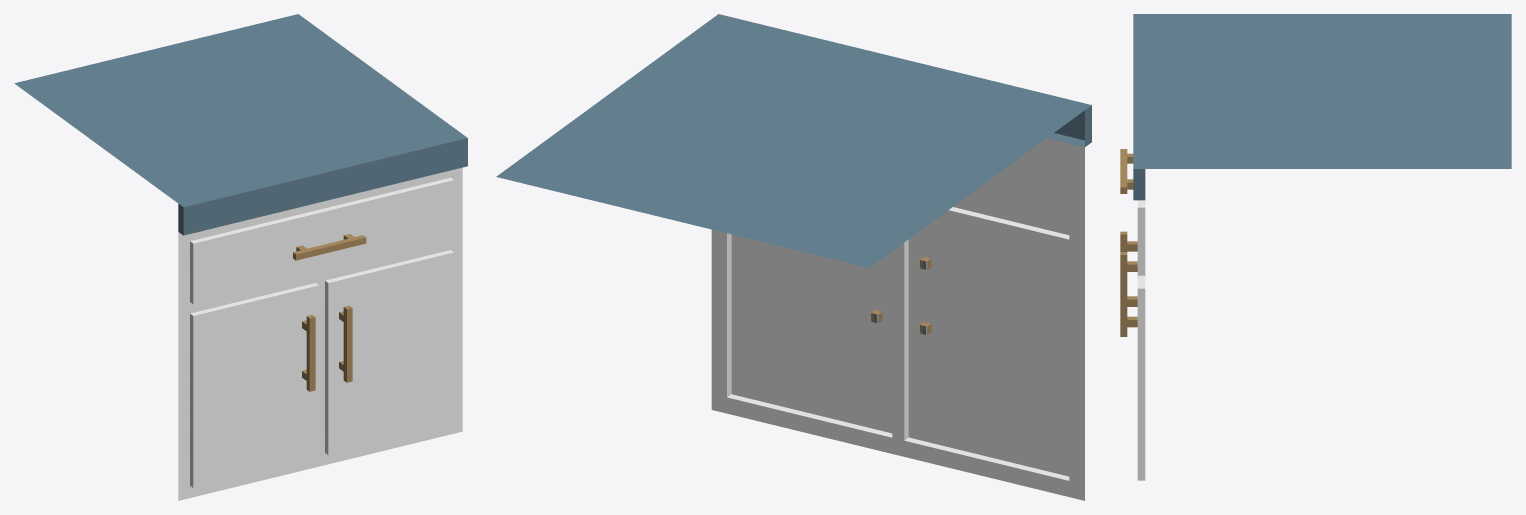
File: KitchenCounter.FBX
The picture shows the model from 3 angles, left to right: view 1: azimuth 30°, elevation 25°; view 2: azimuth 150°, elevation 25°; view 3: azimuth 270°, elevation 25°; orthographic projection. The views are drawn at different scales.
Visible parts, largest first — view 1: KitchenCounter; view 2: KitchenCounter; view 3: KitchenCounter.
Part boxes in pixels (x1,y1,x2,y2): KitchenCounter: (14,14,467,500); KitchenCounter: (496,14,1091,500); KitchenCounter: (1120,14,1511,480).
Bounding box in the file's own units: 91.18 × 91.18 × 97.4.
